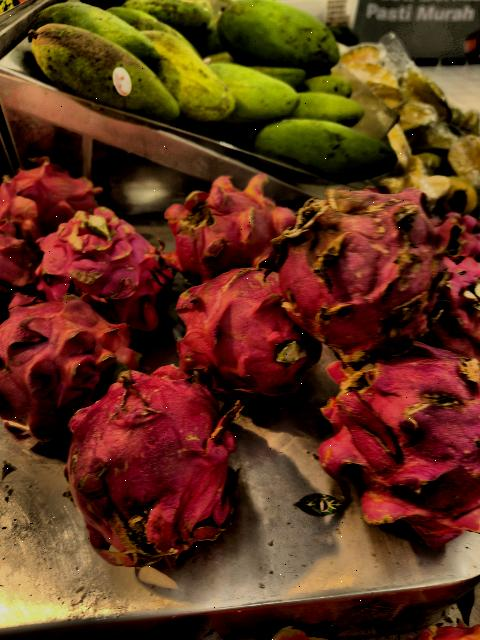buah-naga-matang: (56, 362, 248, 554), (318, 346, 480, 520), (276, 183, 434, 343), (34, 206, 172, 332), (0, 293, 126, 421), (185, 277, 305, 378), (166, 184, 286, 258), (0, 160, 98, 248)
